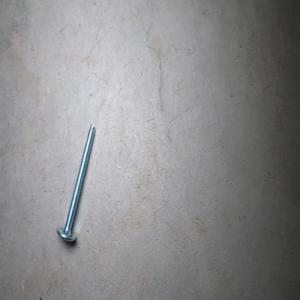Bolt: (55, 122, 95, 242)
